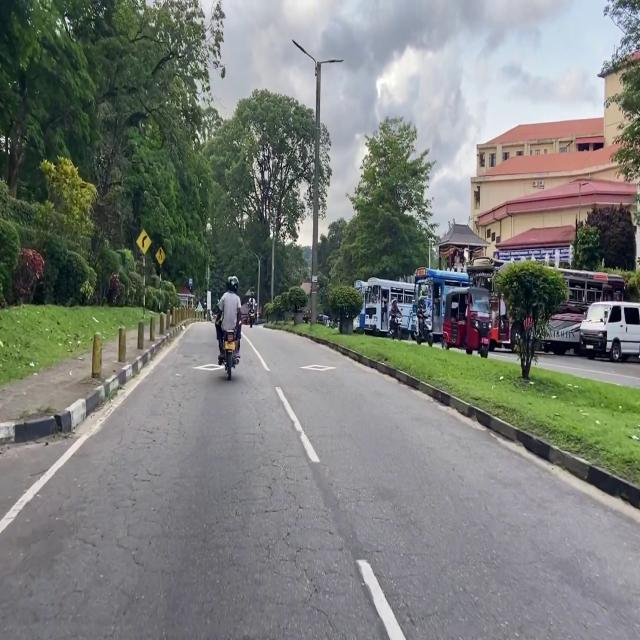bus: (468, 258, 625, 355), (364, 273, 468, 337), (410, 268, 468, 343), (353, 280, 367, 331)
motorcycle: (224, 331, 238, 380), (417, 316, 433, 347), (389, 309, 401, 340), (248, 309, 255, 328)
person: (216, 276, 241, 364), (416, 298, 426, 328), (390, 298, 398, 319), (248, 292, 255, 312)
three wheeler: (442, 287, 490, 358)
van: (580, 302, 640, 361)
